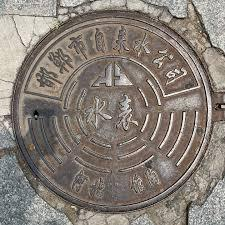wellcover: (8, 12, 225, 216)
